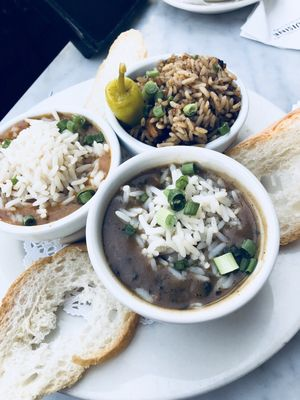sushi: (85, 146, 282, 325), (90, 49, 250, 155), (0, 105, 122, 242)
